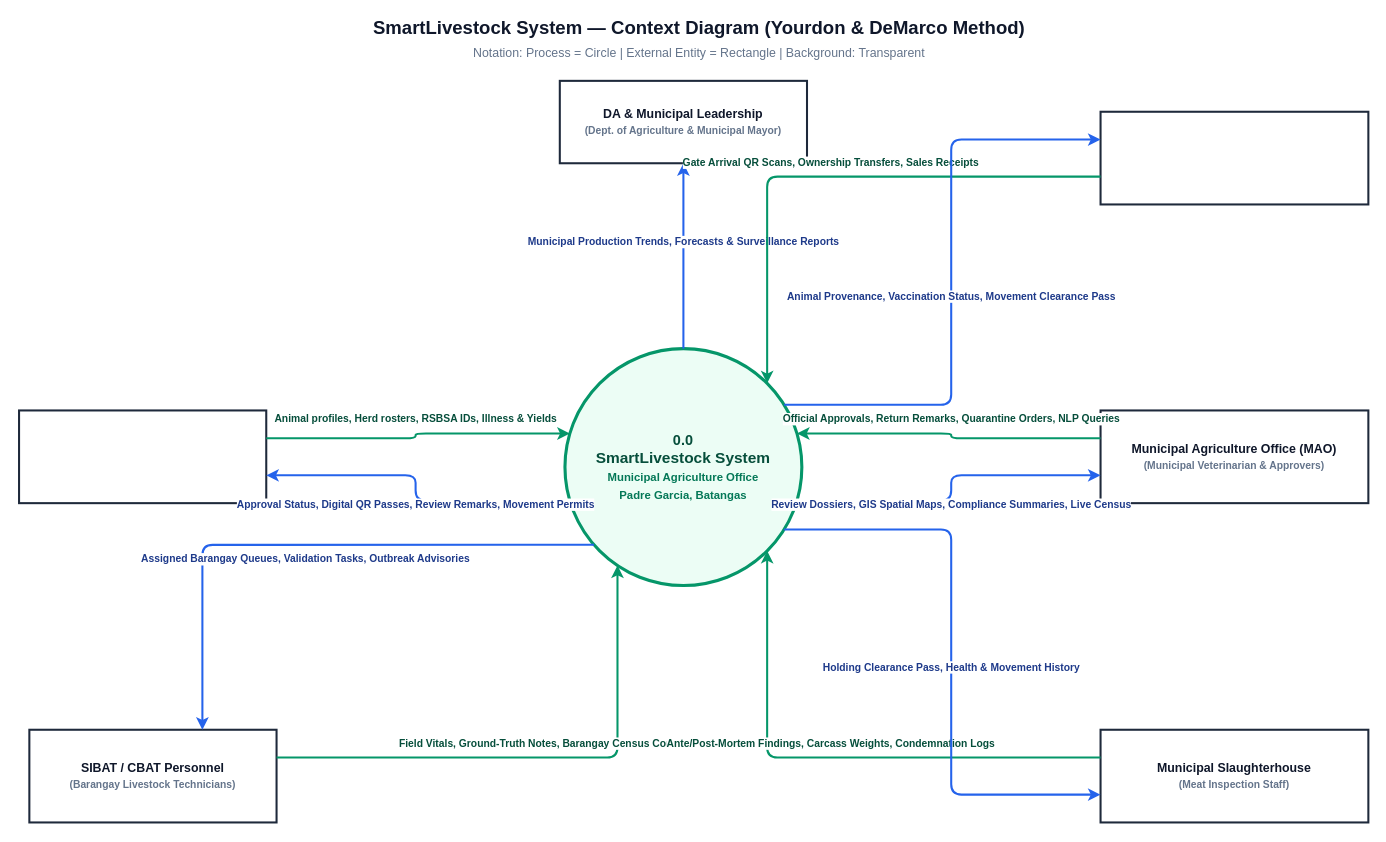
Some shapes in this 1386 by 842 pixel diagram are drawn without their labels. The centre of each missing label's shape, as x and y in pixels:
"Farmer / Livestock Owner (Smallholders & Commercial Raisers)" belongs at point 142,456.
"Livestock Auction Market (Padre Garcia Trading Center Gate)" belongs at point 1234,157.
